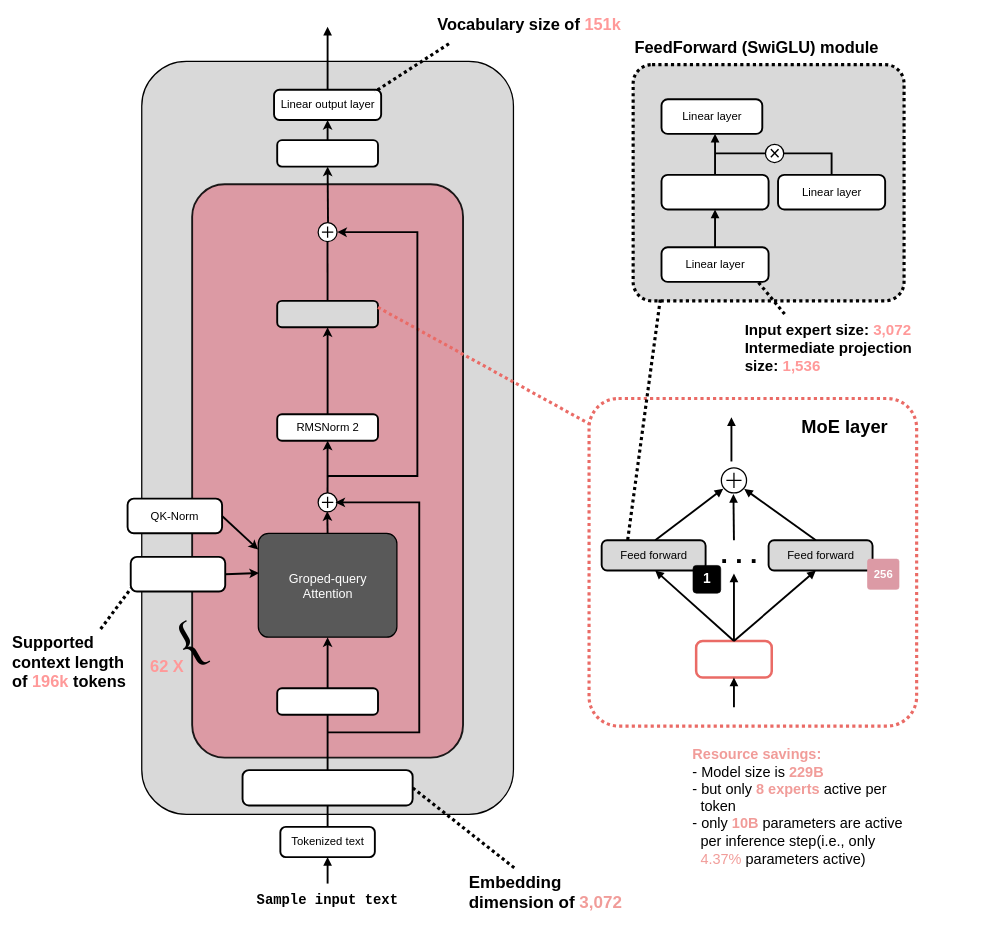
This 990x944 diagram has some shape labels left out. Here are the shapes that lost their labels. From the top down, the box of each, then its label:
(276, 139, 379, 167): Final RMSNorm
(660, 174, 769, 210): SiLU activation
(276, 300, 379, 328): MoE
(129, 556, 226, 592): Partial RoPE
(695, 639, 773, 679): Router
(276, 687, 379, 715): RMSNorm 1
(241, 769, 413, 806): Token embedding layer
